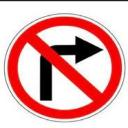NoVirarDireita: (4, 10, 126, 124)
